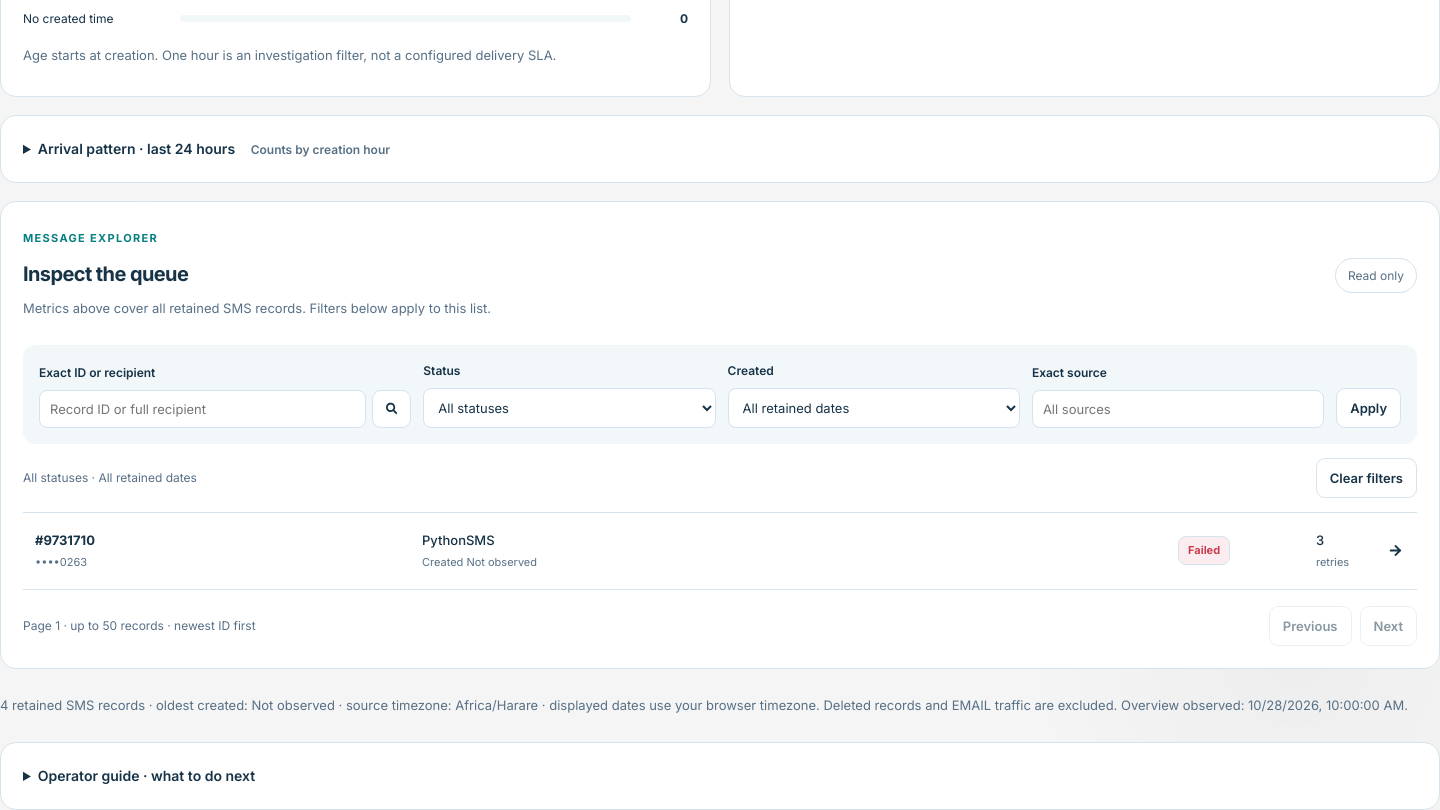
Test case: separates sent evidence from receipt and opens accessible read-only drawer
The width and height of the screenshot is (1440, 810).
(page scrolled)
Click the text "#9731710".
click(39, 540)  # box [35,532,95,548]
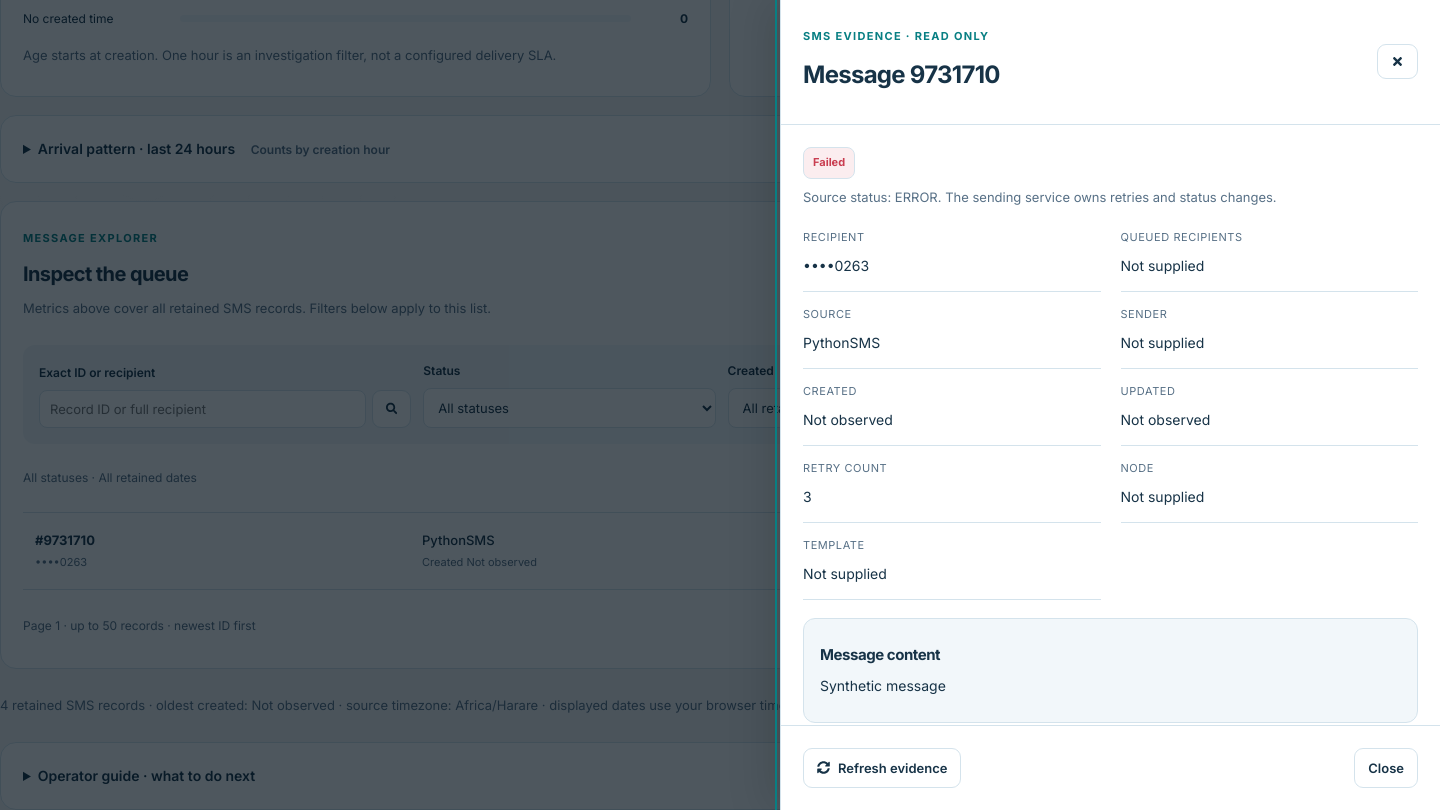
Expected: the text "Synthetic message" is shown, [820,677,946,694]
Expected: the element that starts with "SMS evidence · read only" is shown
Press Escape in the dialog, box [780,0,1439,809]
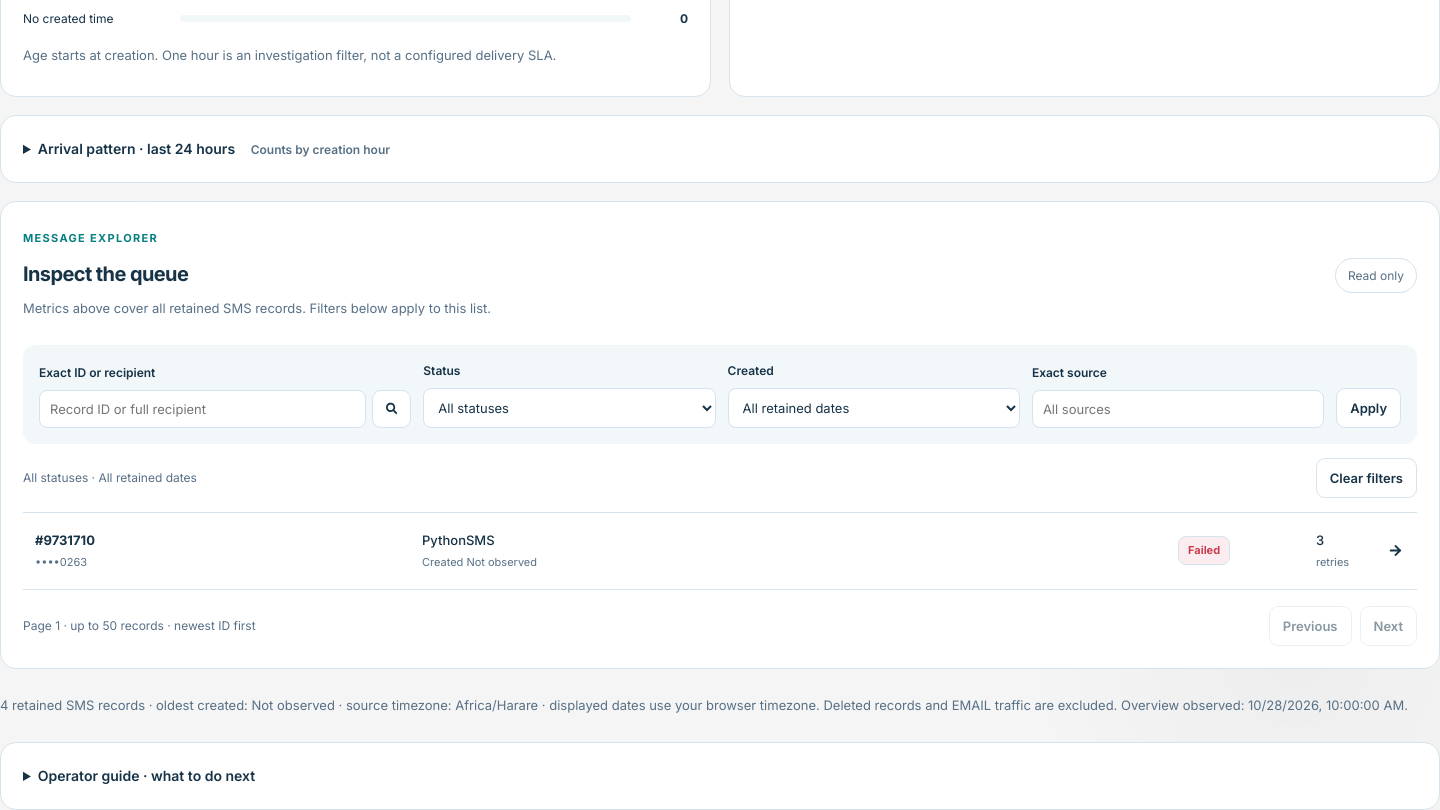
Expected: the dialog is gone
